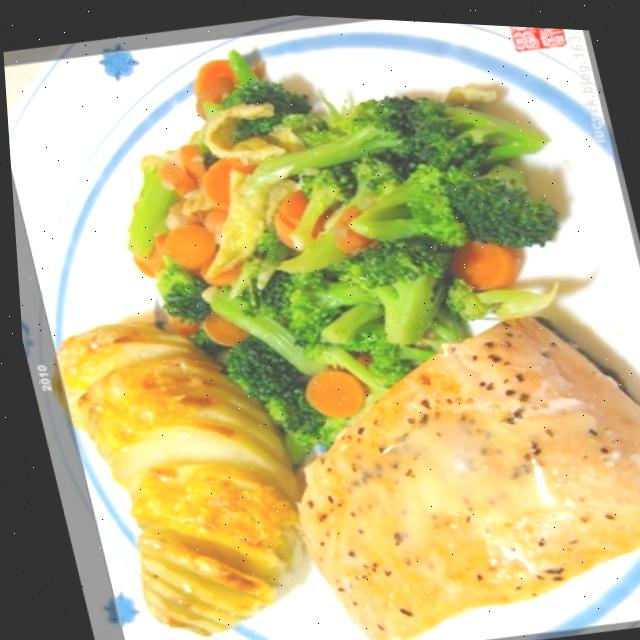熟制海鲜: (215, 255, 640, 640)
